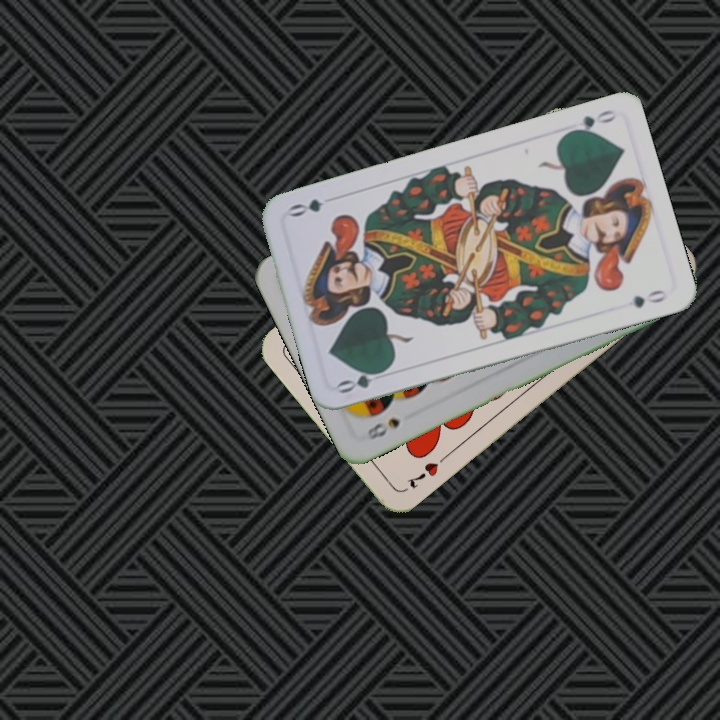GO: (334, 363, 392, 396), (562, 105, 618, 138)
H7: (404, 451, 450, 492)
S8: (363, 413, 403, 443)
